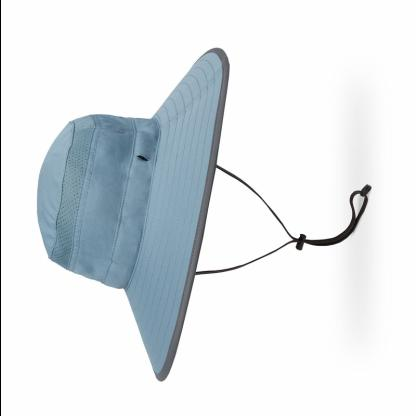hat: (31, 44, 235, 386)
